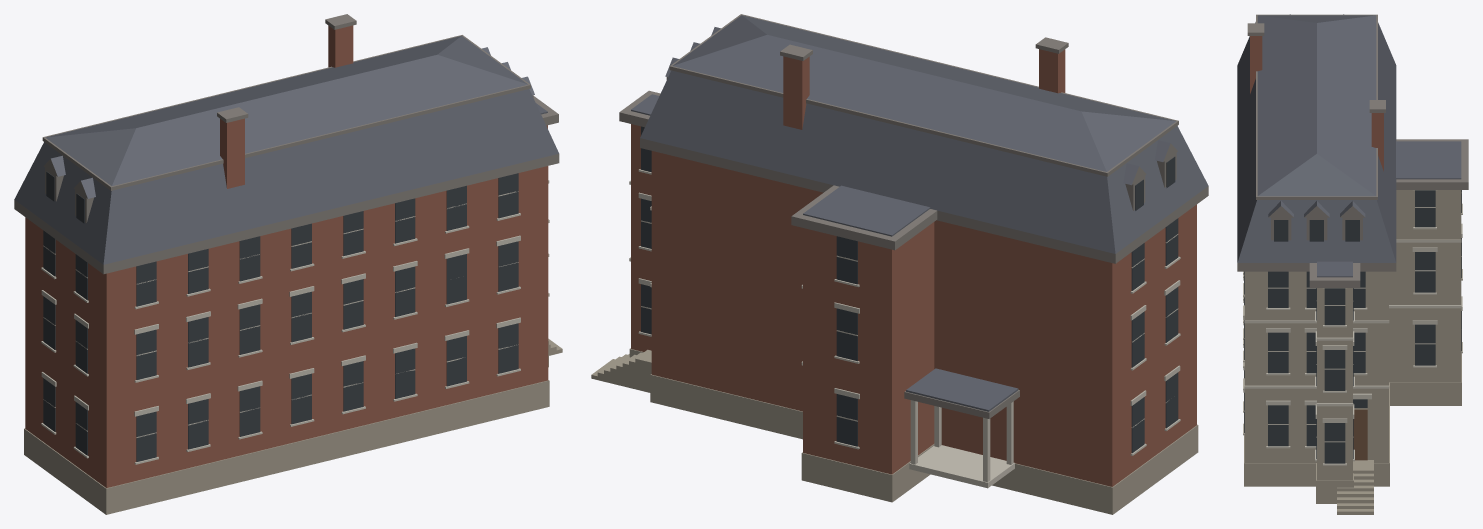
File: jones_house_1834_prairie__draft_1904.glb
3 renders of one model, left to right at view 1: azimuth 30°, elevation 25°; view 2: azimuth 150°, elevation 25°; view 3: azimuth 270°, elevation 25°, orthographic. The views are drawn at different scales.
Visible parts, largest first — view 1: jones_house_1834_prairie__draft_1904; view 2: jones_house_1834_prairie__draft_1904; view 3: jones_house_1834_prairie__draft_1904.
Boxes of the visible parts, x1=… form: jones_house_1834_prairie__draft_1904: x1=14, y1=14, x2=562, y2=514; jones_house_1834_prairie__draft_1904: x1=591, y1=14, x2=1208, y2=514; jones_house_1834_prairie__draft_1904: x1=1237, y1=14, x2=1468, y2=514.
Bounding box in the file's own units: 25.65 × 17.33 × 11.2.
